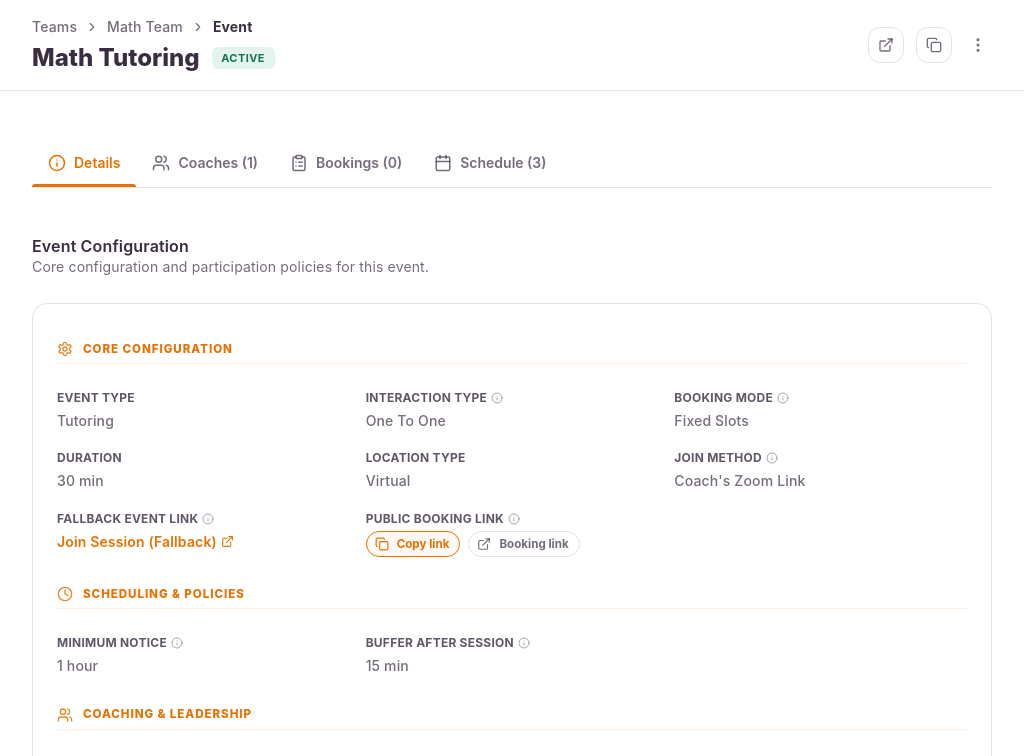
Test case: Event Detail Integration › should allow logging a session and marking attendance
Click the tab "Schedule (3)" at (490, 163), box x1=418 y1=139 x2=562 y2=187
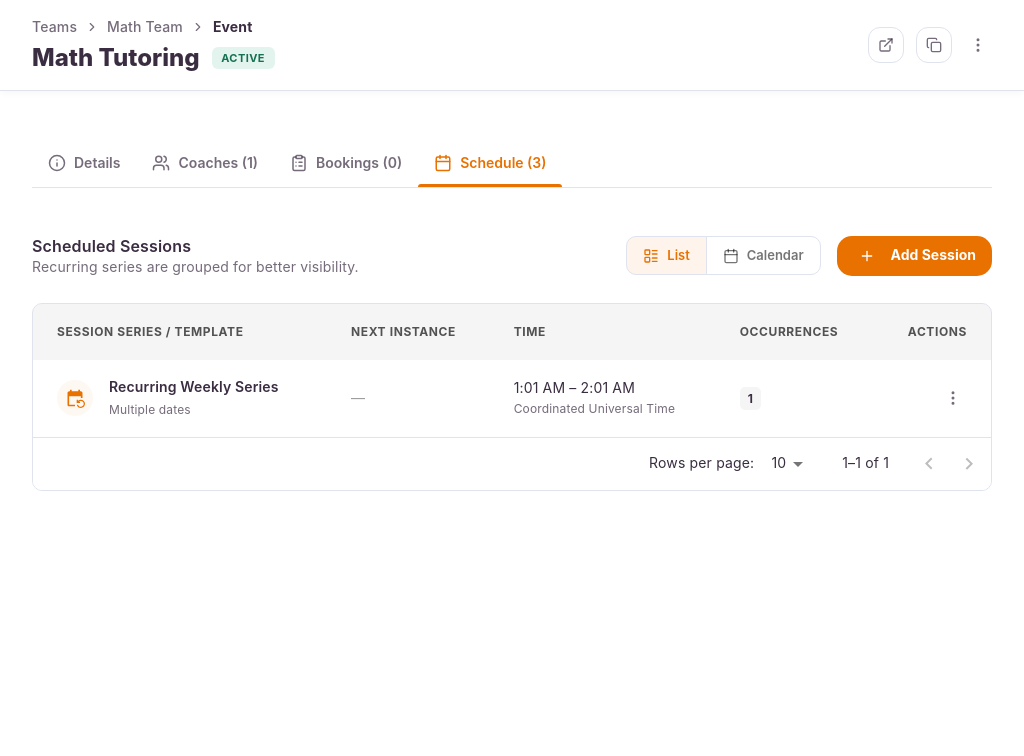
Click the text "Recurring Weekly Series" at (194, 387), box x1=109 y1=376 x2=279 y2=398
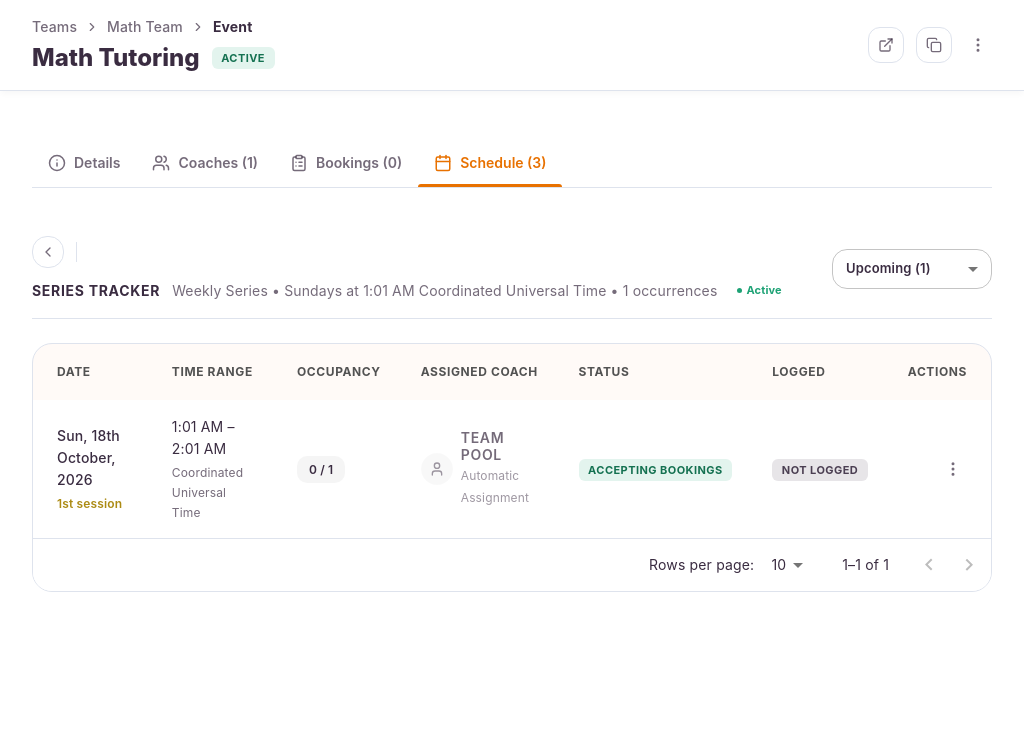
Expected: the heading "Series Tracker" is shown, x1=32 y1=280 x2=160 y2=302
// In the tracker view, moreButtons[0] is in the header, moreButtons[1] is the first row.
Click the button named "more" in the row of "/ 1" at (953, 469), box x1=939 y1=455 x2=967 y2=483
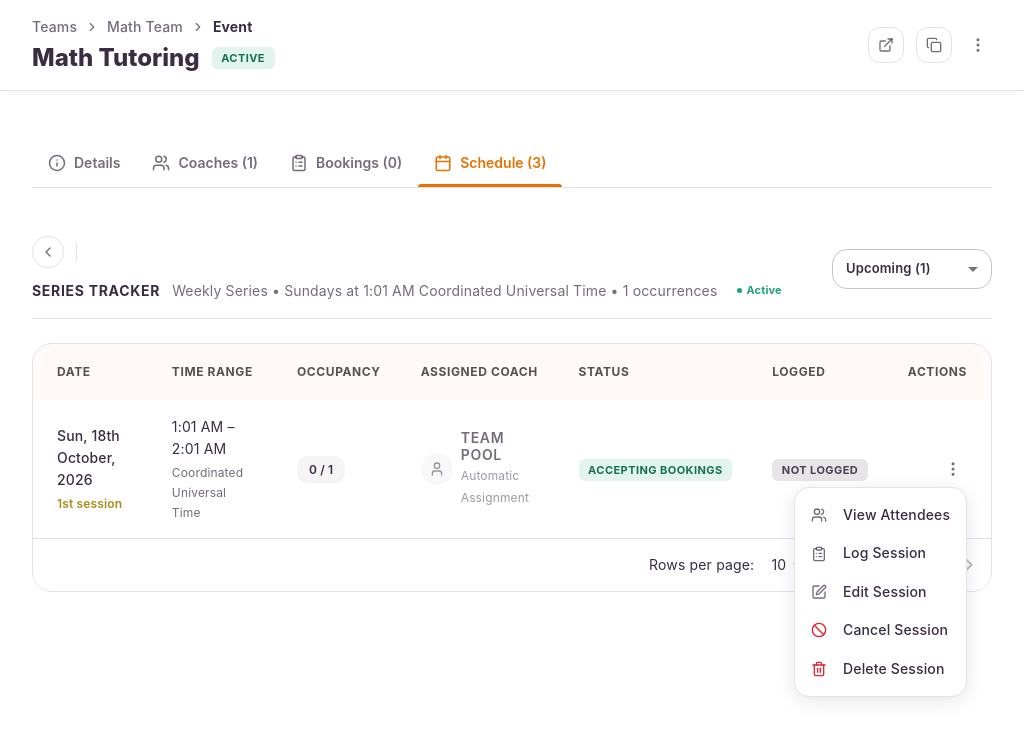
Click the menu item "Log Session" at (869, 553), box x1=811 y1=544 x2=926 y2=562
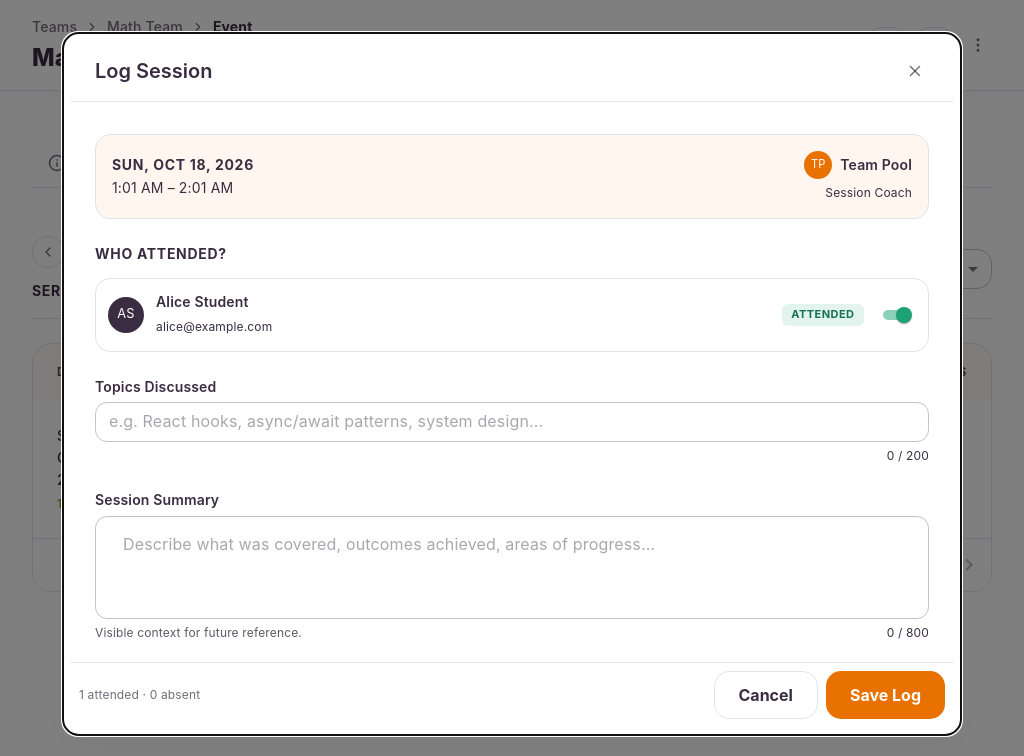
Expected: the heading "Log Session" is shown, x1=95 y1=57 x2=929 y2=85
Expected: the text "Alice Student" is shown, x1=156 y1=293 x2=249 y2=310
// Fill and Save
Type "Test Topics" into the field with placeholder "e.g. React hooks, async/await patterns, system design..." at (512, 422), box x1=95 y1=402 x2=929 y2=442
Replace the text in the text box with placeholder "Describe what was covered" with "Test Summary" at (512, 567), box x1=109 y1=524 x2=915 y2=610
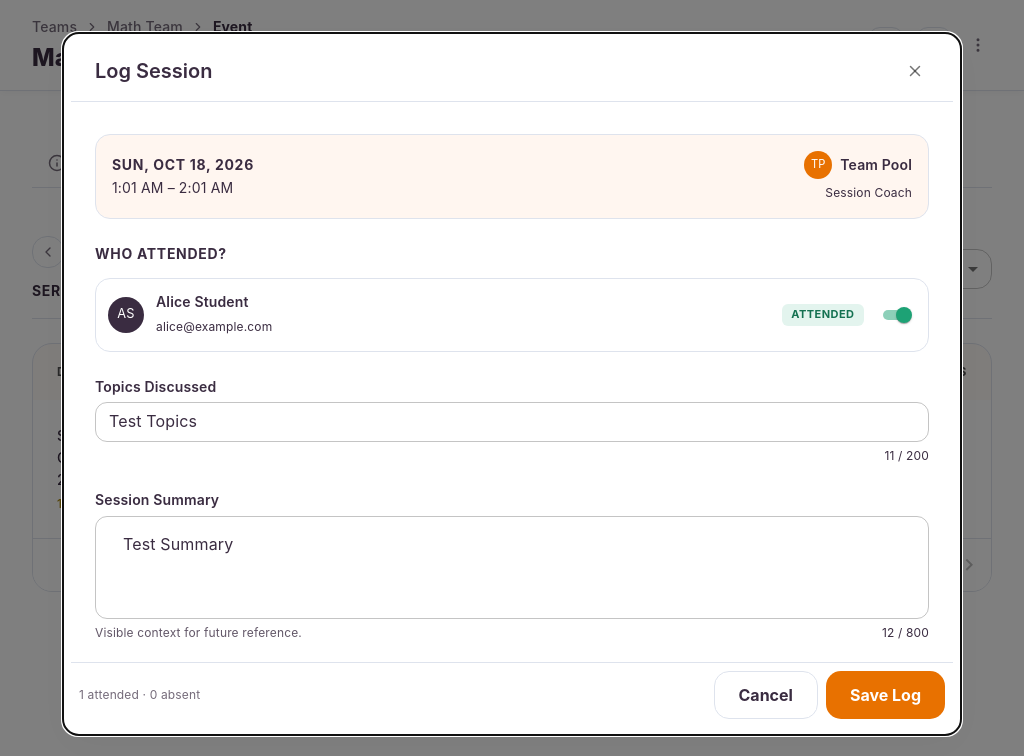
Click the button "Save Log" at (885, 695), box x1=826 y1=671 x2=945 y2=719
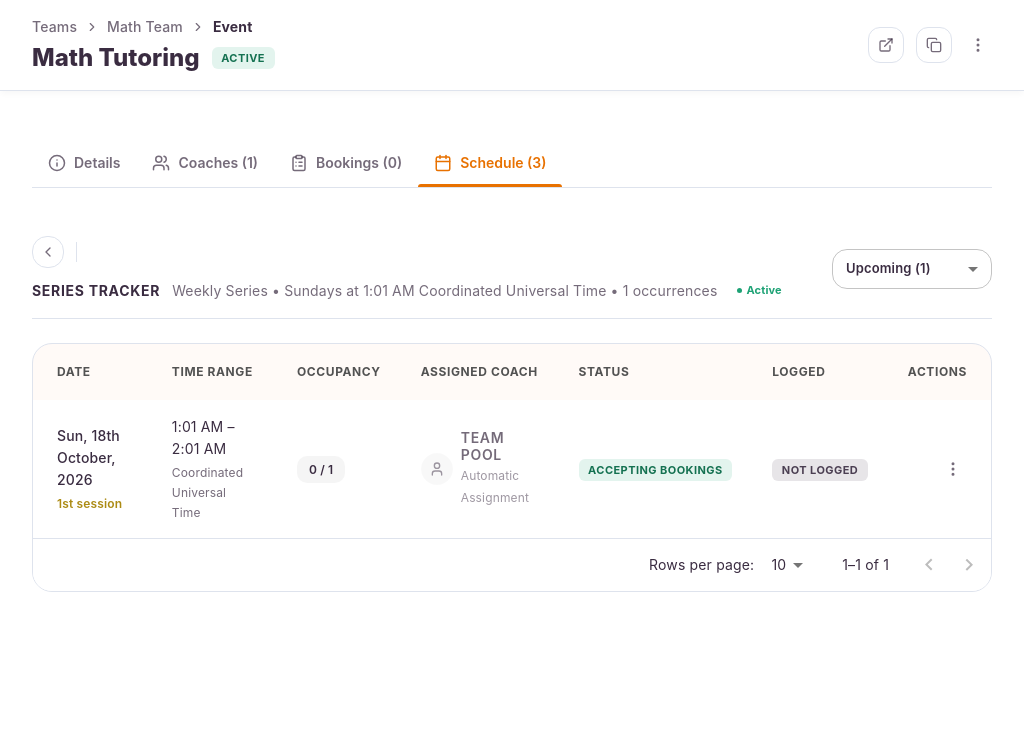
Expected: the button "Save Log" is gone
